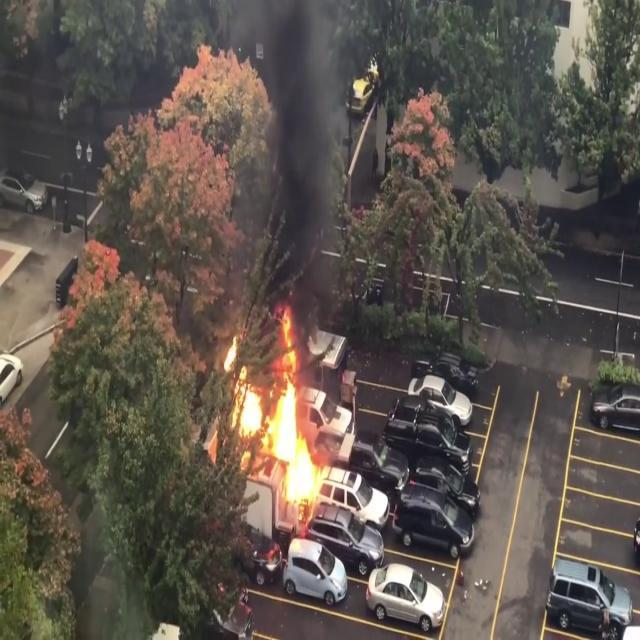Fire: (218, 305, 335, 516)
Smoke: (245, 0, 369, 294)
